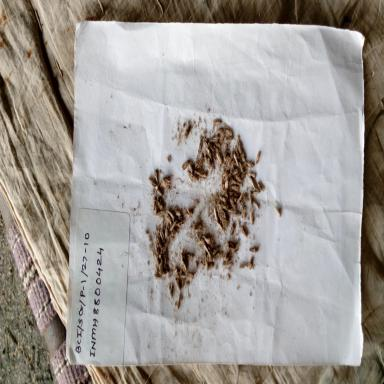pbw: (162, 176, 172, 191), (238, 258, 249, 271), (197, 136, 204, 156), (220, 260, 234, 270), (201, 232, 212, 244), (220, 168, 231, 180), (212, 243, 222, 256), (274, 204, 282, 220), (215, 150, 223, 166), (254, 149, 262, 165), (237, 188, 245, 204), (203, 244, 211, 260), (239, 224, 248, 238), (175, 292, 182, 310), (248, 208, 255, 226), (186, 169, 194, 184), (162, 239, 170, 254), (184, 124, 192, 139), (166, 207, 175, 220), (197, 156, 205, 170), (174, 277, 182, 291), (220, 216, 228, 230), (150, 184, 158, 198), (218, 193, 228, 204), (228, 190, 239, 200), (240, 168, 249, 180), (181, 158, 190, 170), (224, 125, 233, 137), (184, 205, 193, 217), (225, 239, 234, 251), (165, 213, 173, 226), (170, 219, 178, 232), (248, 175, 256, 188), (257, 180, 265, 193), (168, 282, 174, 299), (212, 251, 222, 261), (193, 221, 203, 231), (203, 135, 210, 149), (229, 196, 236, 210), (219, 207, 226, 221), (173, 264, 180, 278), (205, 153, 212, 167), (147, 175, 155, 187), (153, 240, 159, 256), (233, 152, 239, 168), (158, 258, 164, 274), (162, 252, 168, 268), (227, 152, 233, 168), (234, 144, 240, 160), (252, 199, 260, 211), (248, 256, 254, 272), (223, 145, 228, 163), (247, 169, 257, 178), (186, 250, 196, 259), (180, 250, 185, 268), (230, 182, 239, 192), (212, 206, 218, 221), (169, 226, 177, 237), (207, 141, 215, 152), (159, 229, 165, 243), (236, 140, 242, 154), (234, 239, 240, 253), (241, 205, 247, 219), (217, 221, 224, 233), (206, 262, 215, 271), (212, 118, 222, 126), (224, 178, 229, 194), (248, 245, 258, 253), (222, 256, 232, 264), (154, 210, 164, 218), (224, 136, 234, 144), (153, 168, 158, 184), (180, 272, 188, 282), (230, 222, 236, 235), (164, 226, 170, 239), (195, 238, 206, 245), (194, 260, 199, 275), (245, 160, 254, 168), (226, 206, 234, 215), (153, 272, 161, 281), (199, 258, 207, 267), (253, 188, 262, 196), (199, 172, 208, 180), (235, 174, 242, 184), (232, 167, 239, 177), (174, 208, 181, 218), (154, 253, 159, 267), (248, 189, 252, 206), (238, 162, 244, 173), (158, 199, 164, 210), (241, 151, 246, 164), (152, 196, 156, 212), (177, 219, 185, 227), (216, 126, 224, 134), (212, 134, 220, 142), (156, 189, 164, 197), (233, 210, 242, 217), (186, 272, 195, 279), (193, 168, 200, 176), (215, 141, 222, 149), (188, 162, 193, 173), (195, 158, 200, 169), (219, 134, 224, 144), (192, 176, 199, 182)
